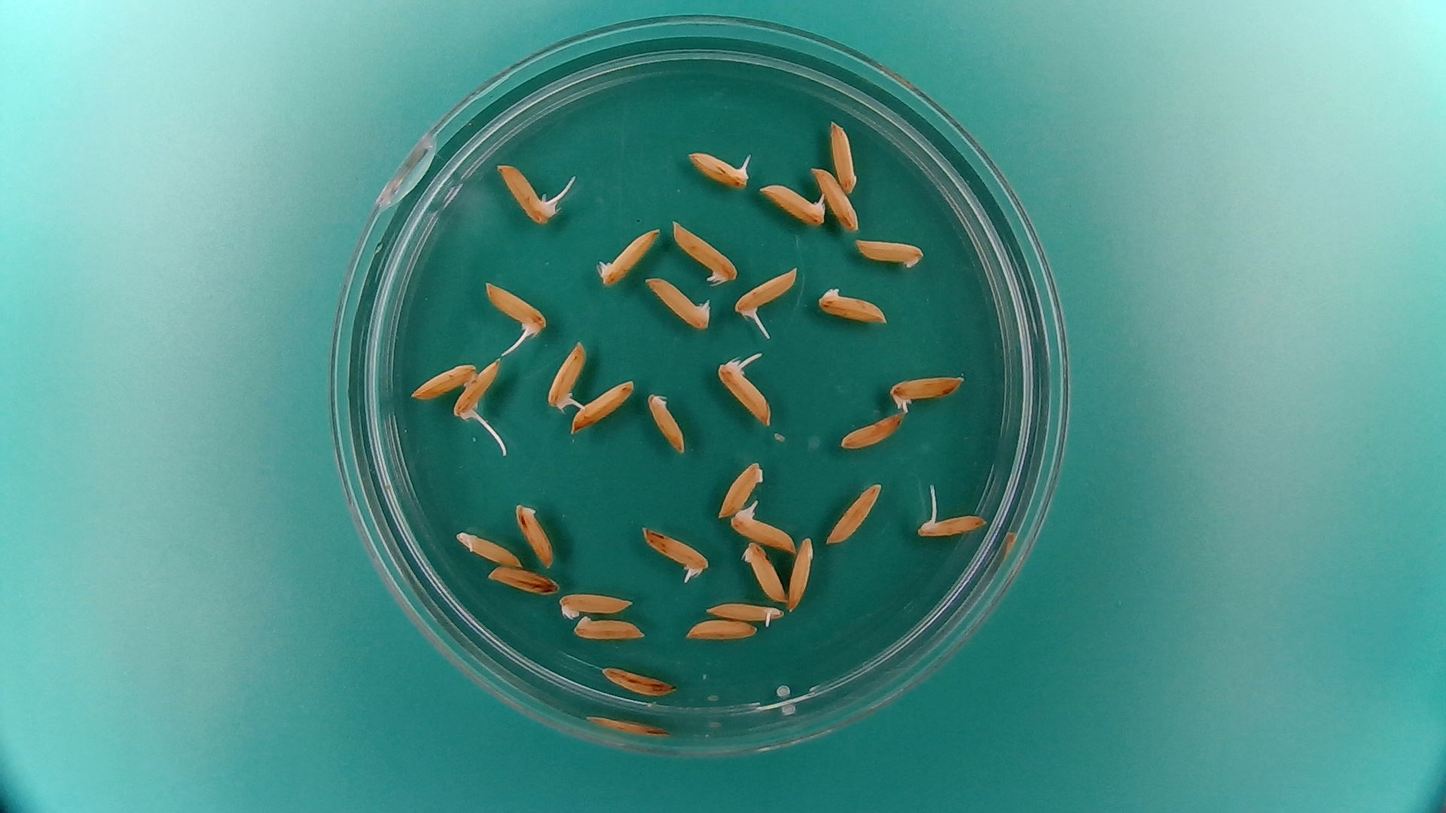no: (668, 215, 741, 285), (593, 224, 663, 288), (569, 373, 639, 433), (642, 273, 713, 331), (825, 479, 885, 546), (808, 162, 863, 234), (812, 282, 894, 328), (713, 458, 768, 520), (407, 357, 480, 403), (739, 539, 788, 606), (513, 498, 558, 570), (598, 662, 679, 702), (851, 233, 929, 273), (452, 529, 526, 570), (645, 387, 689, 455), (837, 411, 905, 452), (827, 117, 862, 195), (557, 588, 636, 620), (569, 611, 647, 643), (786, 534, 817, 612), (484, 565, 558, 597), (681, 617, 757, 643)
yes: (636, 523, 712, 584), (493, 157, 558, 227), (480, 279, 550, 337), (720, 357, 775, 430), (726, 501, 801, 553), (731, 264, 803, 318), (884, 369, 968, 415), (544, 333, 589, 414), (755, 181, 828, 228), (684, 146, 755, 190), (703, 597, 784, 629), (452, 355, 493, 418), (913, 510, 984, 541)
